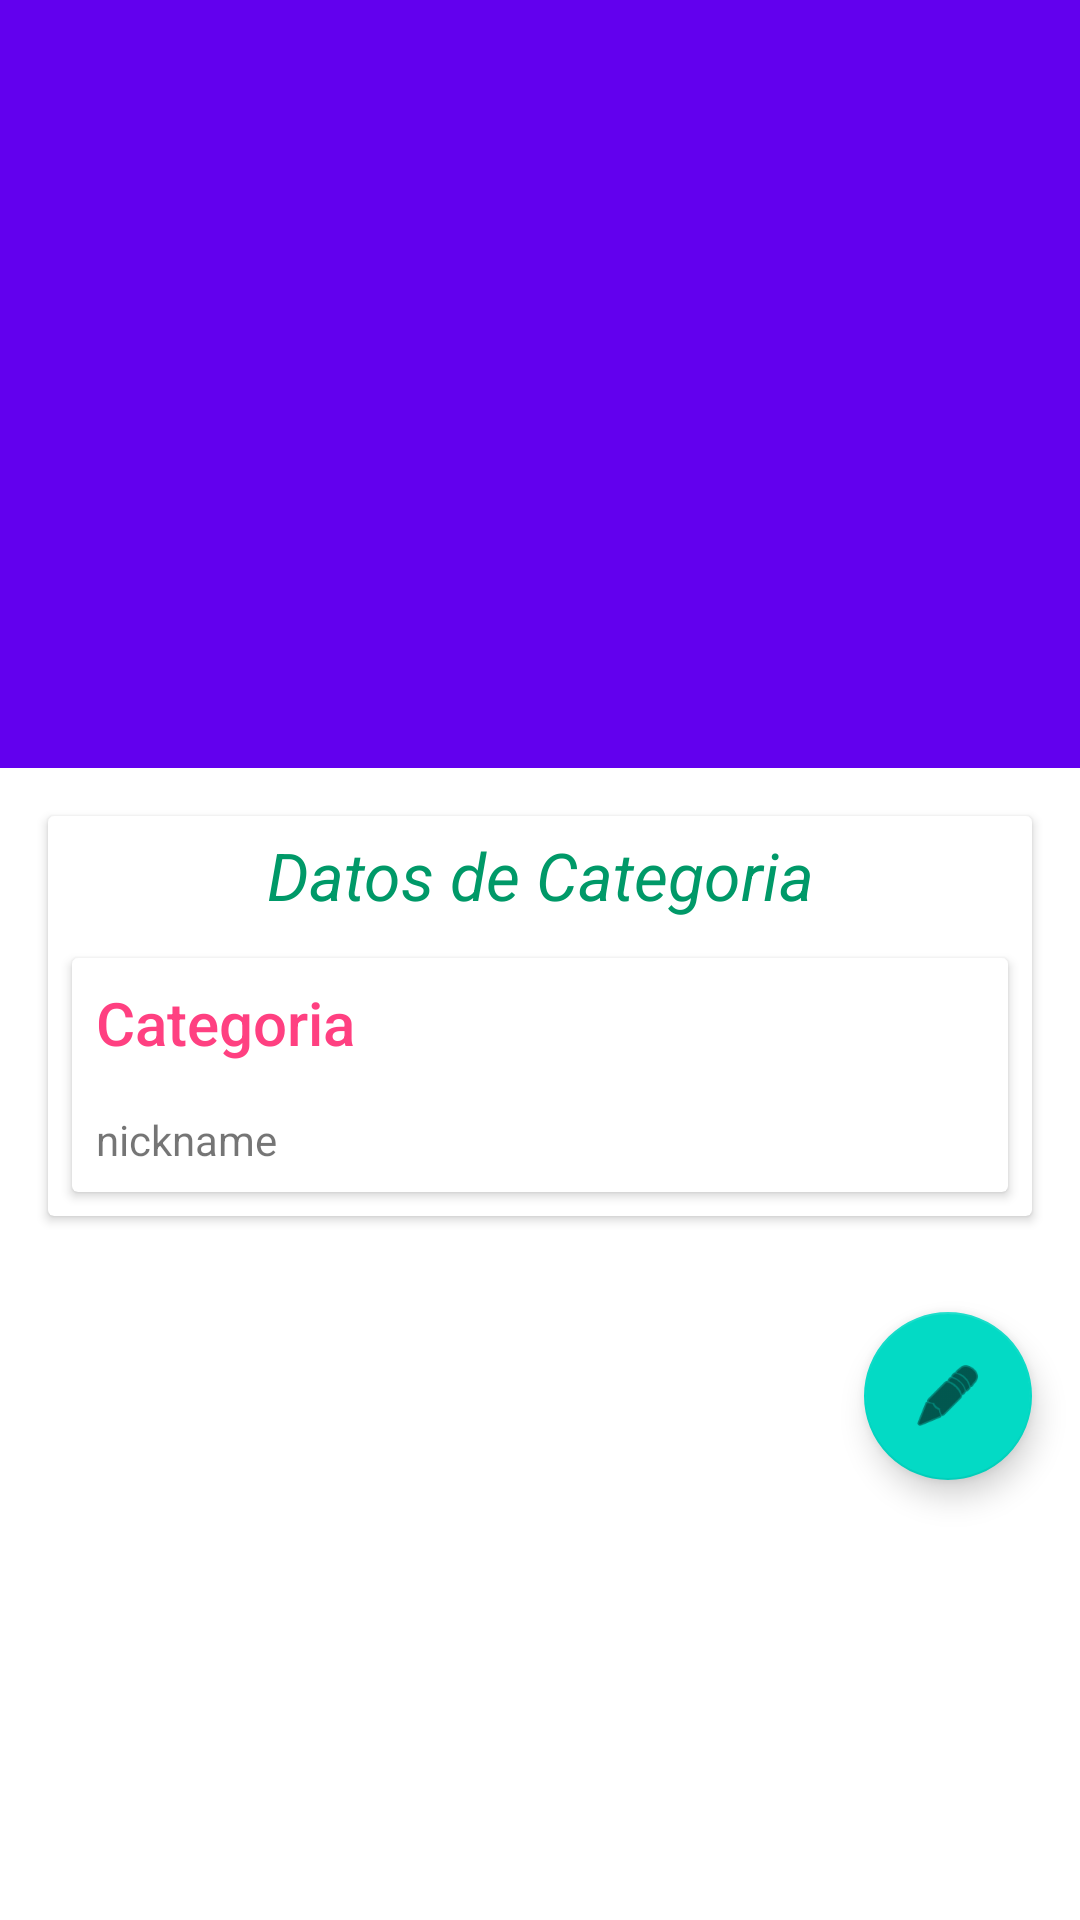

Named icons in this screenshot (1080 x 1920) and their centers, point (x, y):
edit: point (948, 1396)
